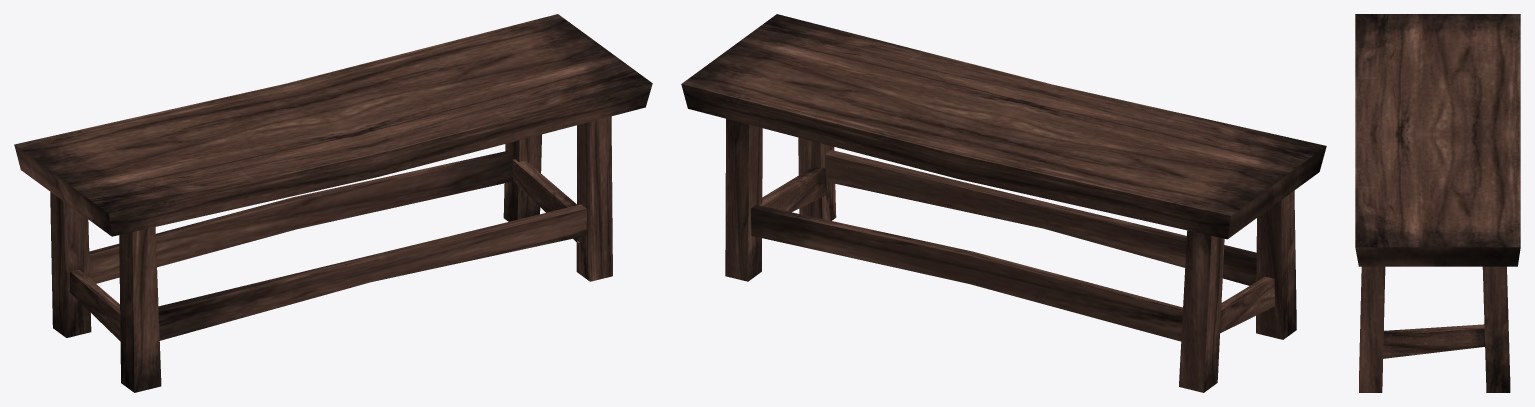
File: bench.fbx
3 views of the same model, side by side, from view 1: azimuth 30°, elevation 25°; view 2: azimuth 150°, elevation 25°; view 3: azimuth 270°, elevation 25° (orthographic). The views are drawn at different scales.
Visible parts, largest first — view 1: BankBench_seat, BankBench_legsupport2, BankBench_legsupport1, BankBench_leg3, BankBench_leg1, BankBench_leg4, BankBench_leg2, BankBench_legsupport3, BankBench_legsupport4; view 2: BankBench_seat, BankBench_legsupport1, BankBench_legsupport2, BankBench_leg4, BankBench_leg2, BankBench_leg3, BankBench_legsupport4, BankBench_legsupport3, BankBench_leg1; view 3: BankBench_seat, BankBench_leg2, BankBench_leg1, BankBench_legsupport4.
Boxes of the visible parts, x1,y1,x2,y2 form: BankBench_seat: [14, 14, 652, 236]; BankBench_legsupport2: [158, 204, 586, 340]; BankBench_legsupport1: [89, 151, 512, 283]; BankBench_leg3: [119, 227, 161, 392]; BankBench_leg1: [576, 116, 612, 281]; BankBench_leg4: [50, 192, 91, 337]; BankBench_leg2: [503, 134, 541, 221]; BankBench_legsupport3: [69, 269, 120, 341]; BankBench_legsupport4: [512, 159, 579, 243]; BankBench_seat: [681, 14, 1326, 239]; BankBench_legsupport1: [751, 204, 1182, 341]; BankBench_legsupport2: [825, 150, 1256, 285]; BankBench_leg4: [1179, 230, 1224, 392]; BankBench_leg2: [725, 118, 762, 281]; BankBench_leg3: [1256, 190, 1296, 339]; BankBench_legsupport4: [760, 166, 827, 212]; BankBench_legsupport3: [1220, 276, 1274, 333]; BankBench_leg1: [798, 137, 836, 220]; BankBench_seat: [1355, 14, 1520, 266]; BankBench_leg2: [1482, 266, 1510, 392]; BankBench_leg1: [1359, 266, 1385, 392]; BankBench_legsupport4: [1383, 324, 1484, 358].
Bounding box in the file's own units: 462 × 152 × 139.
1 material, 1 textured.
